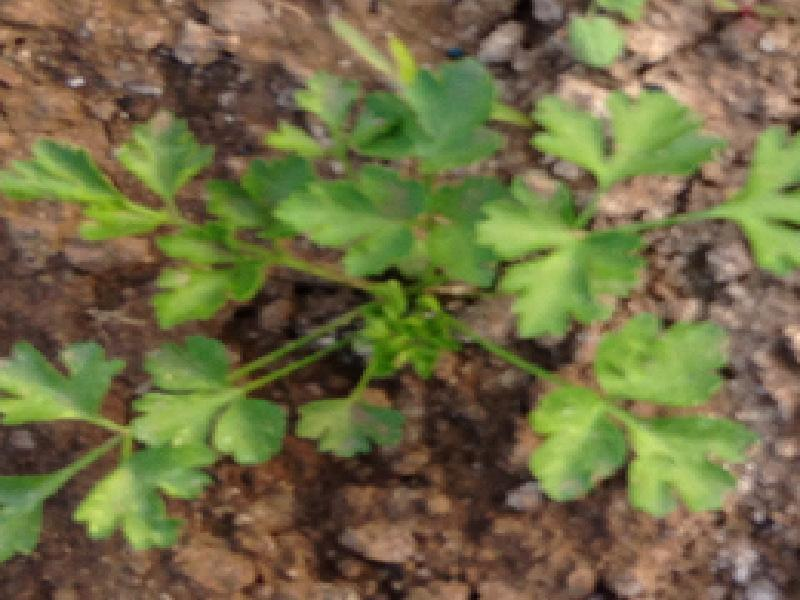radish: (0, 57, 800, 563)
